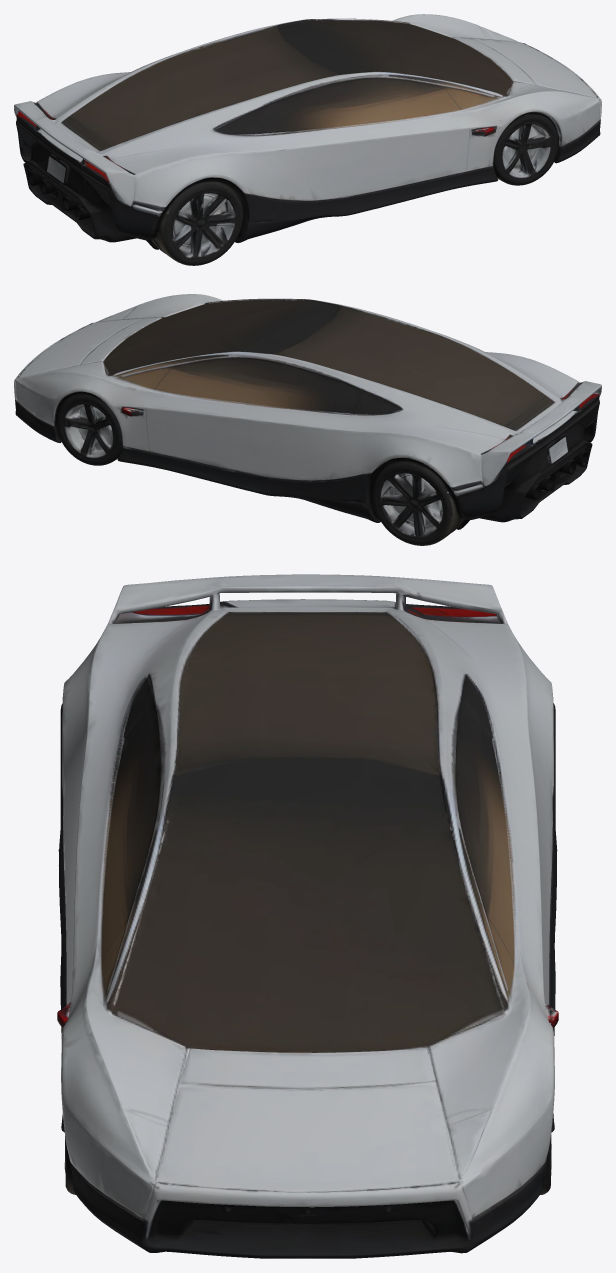
File: roadster.glb
The picture shows the model from 3 angles, top to bottom: view 1: azimuth 30°, elevation 25°; view 2: azimuth 150°, elevation 25°; view 3: azimuth 270°, elevation 25°; orthographic projection. The views are drawn at different scales.
Visible parts, largest first — view 1: Object_4; view 2: Object_4; view 3: Object_4.
Part boxes in pixels (x1,y1,x2,y2): Object_4: (14, 14, 601, 265); Object_4: (14, 294, 601, 545); Object_4: (57, 574, 558, 1258).
Bounding box in the file's own units: 4.5 × 1.11 × 1.89.
1 material, 1 textured.
